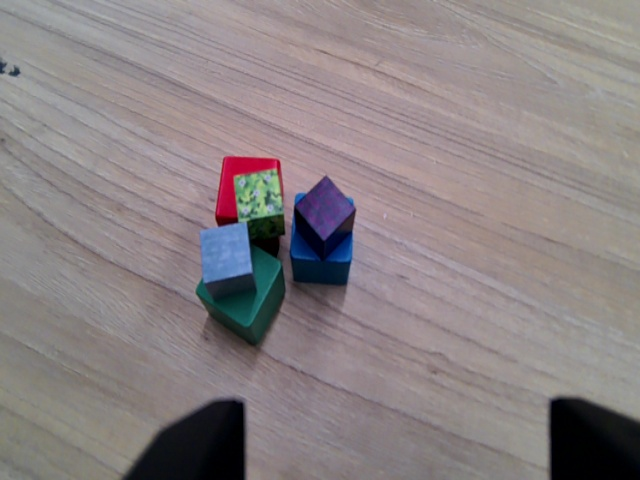brick: (298, 175, 356, 249)
grass: (232, 174, 286, 223)
stone: (198, 226, 257, 291)
